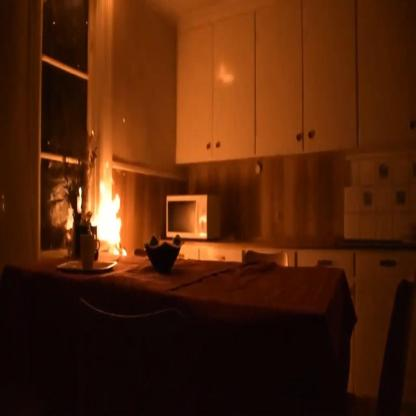fire: (92, 174, 129, 256), (78, 184, 82, 197)
